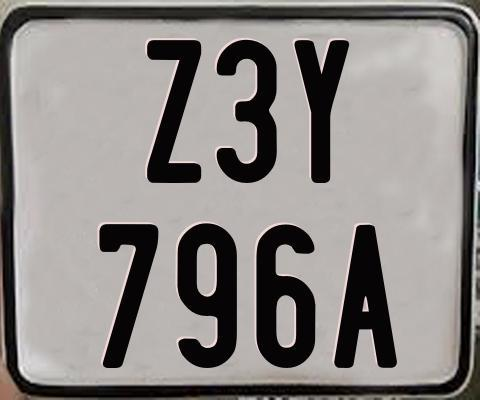3: (216, 37, 280, 184)
6: (256, 222, 318, 370)
7: (98, 224, 161, 370)
9: (177, 221, 243, 370)
A: (334, 224, 402, 368)
Y: (294, 38, 349, 185)
Z: (147, 38, 207, 185)
